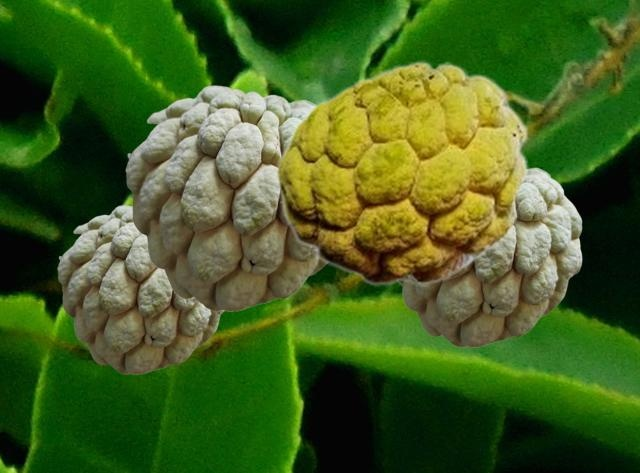atis: (274, 60, 528, 285), (125, 85, 326, 310), (400, 167, 581, 346), (57, 205, 224, 373)
